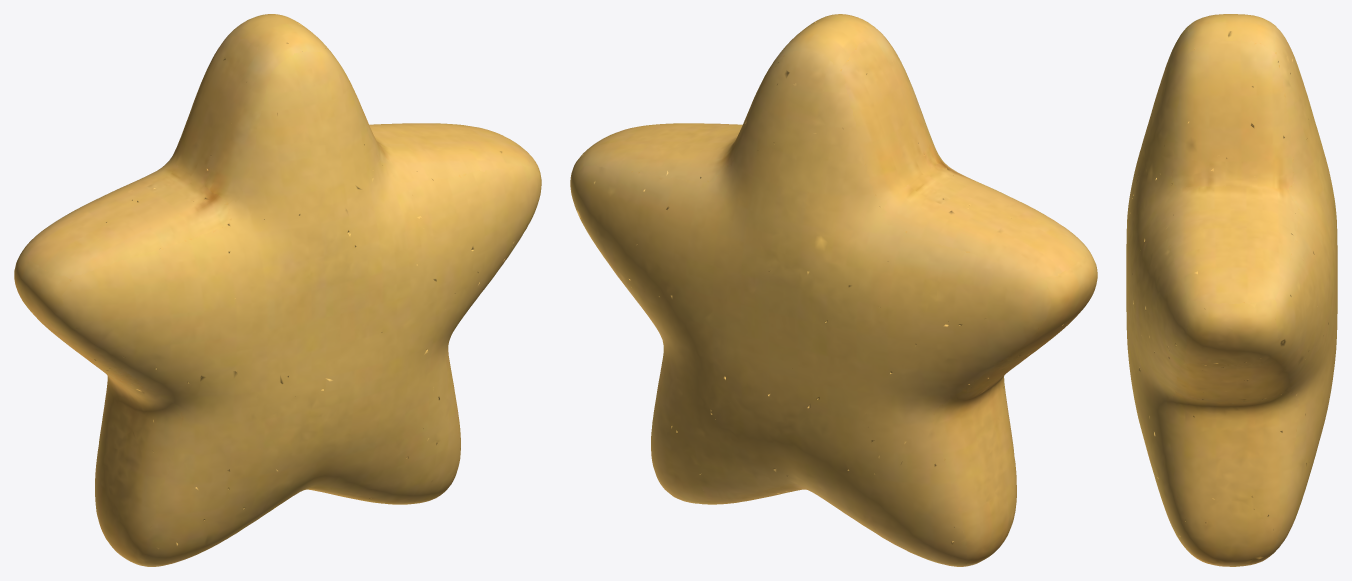
3 renders of one model, left to right at view 1: azimuth 30°, elevation 25°; view 2: azimuth 150°, elevation 25°; view 3: azimuth 270°, elevation 25°, orthographic. The views are drawn at different scales.
Bounding box in the file's own units: 2 × 1.92 × 0.76.
1 material, 1 textured.
